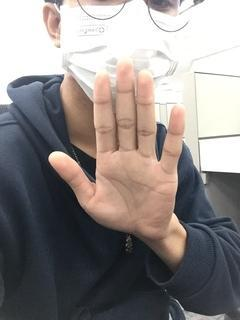hand: (50, 57, 188, 239)
